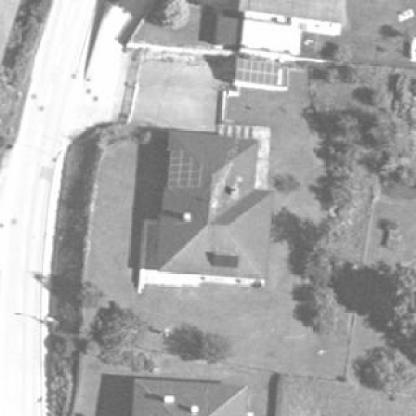solar-pv-panel: (168, 150, 201, 187), (236, 60, 279, 86), (212, 257, 237, 266)
